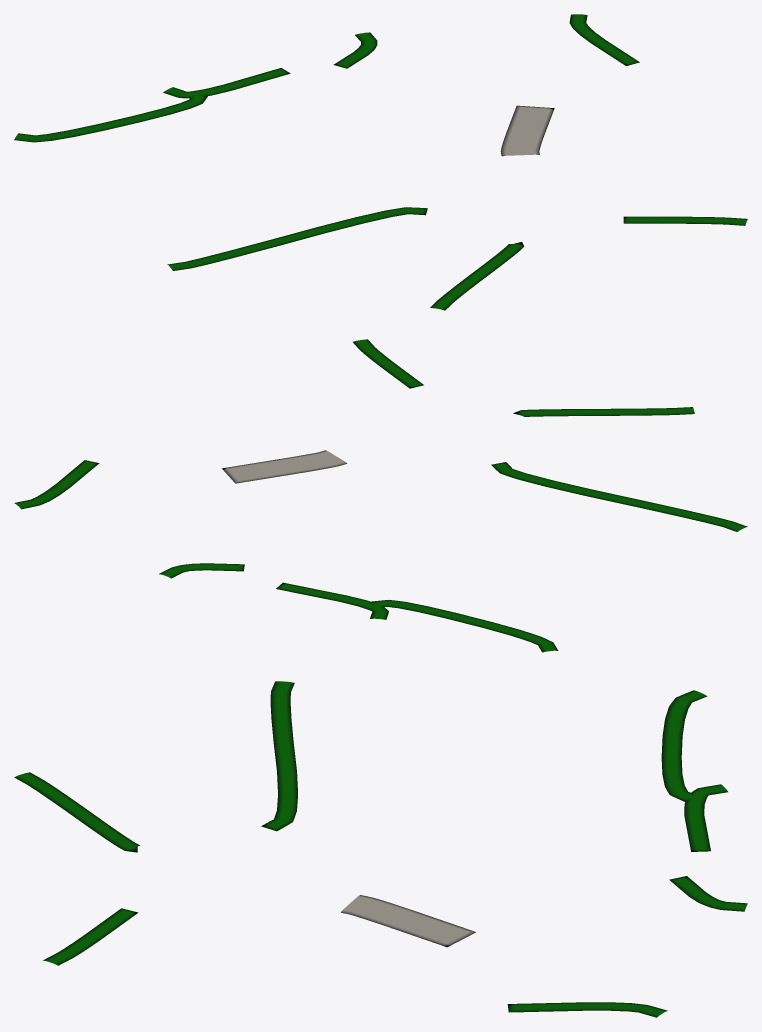
Rendered from SM_WillowPond_Paths_NoCol.fbx.
3 renders of one model, top to bottom at view 1: azimuth 30°, elevation 25°; view 2: azimuth 150°, elevation 25°; view 3: azimuth 270°, elevation 25°, orthographic. The views are drawn at different scales.
Parts seen in each view (by area): view 1: SM_WillowPond_Paths_NoCol; view 2: SM_WillowPond_Paths_NoCol; view 3: SM_WillowPond_Paths_NoCol.
Part boxes in pixels (x1,y1,x2,y2): SM_WillowPond_Paths_NoCol: [14, 14, 747, 310]; SM_WillowPond_Paths_NoCol: [14, 339, 747, 652]; SM_WillowPond_Paths_NoCol: [14, 681, 747, 1017].
Bounding box in the file's own units: 51.56 × 0.045 × 47.56.
